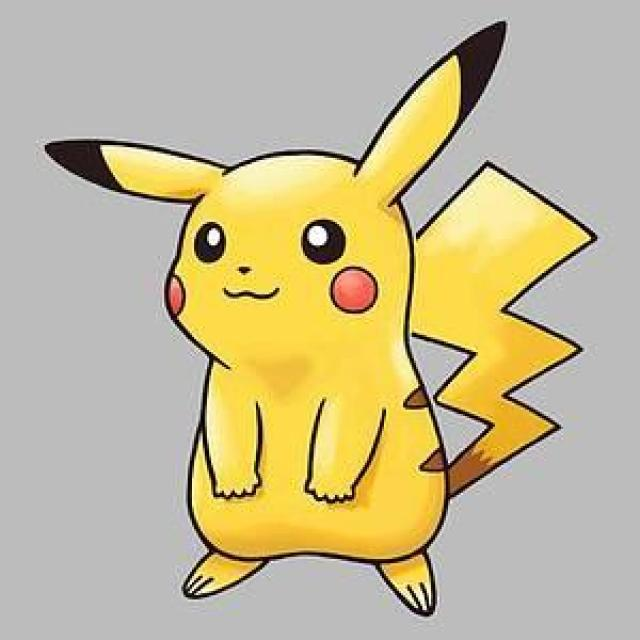pikachu: (44, 17, 603, 616)
